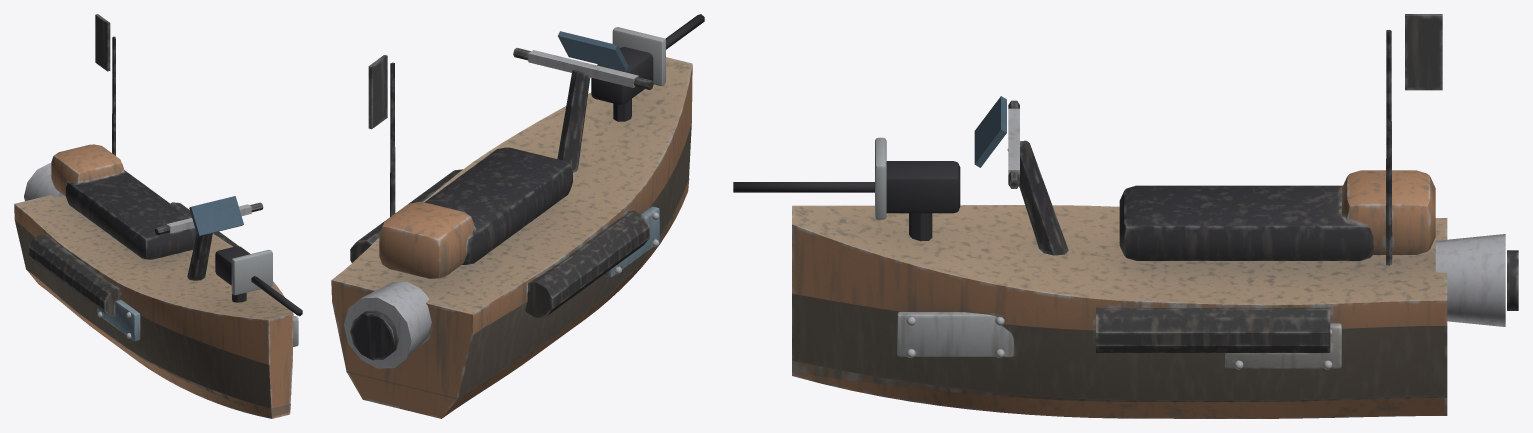
Rendered from jetski.glb.
3 views of the same model, side by side, from view 1: azimuth 30°, elevation 25°; view 2: azimuth 150°, elevation 25°; view 3: azimuth 270°, elevation 25° (orthographic). The views are drawn at different scales.
Visible parts, largest first — view 1: Hull, Turret, Barrel; view 2: Hull, Turret, Barrel; view 3: Hull, Turret, Barrel.
Part boxes in pixels (bbox=[...]): Hull: bbox=[14, 14, 298, 418]; Turret: bbox=[215, 246, 272, 302]; Barrel: bbox=[251, 276, 302, 316]; Hull: bbox=[331, 31, 692, 418]; Turret: bbox=[591, 27, 665, 121]; Barrel: bbox=[665, 14, 704, 49]; Hull: bbox=[792, 14, 1518, 418]; Turret: bbox=[875, 137, 960, 241]; Barrel: bbox=[733, 182, 874, 192].
Size of the model in its own units: 1.19 by 1.88 by 3.35.
13 materials, 11 textured.
